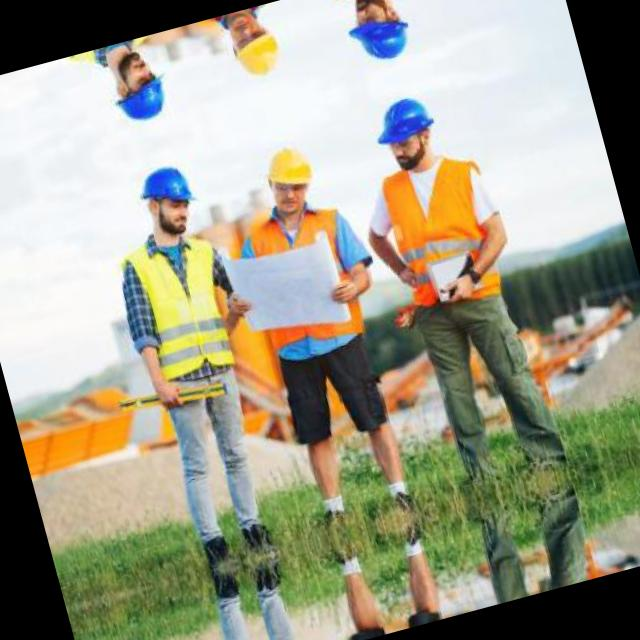helmet: (368, 82, 451, 180), (127, 152, 206, 245), (98, 42, 176, 136), (252, 132, 325, 225), (216, 2, 290, 92), (340, 0, 422, 75)
